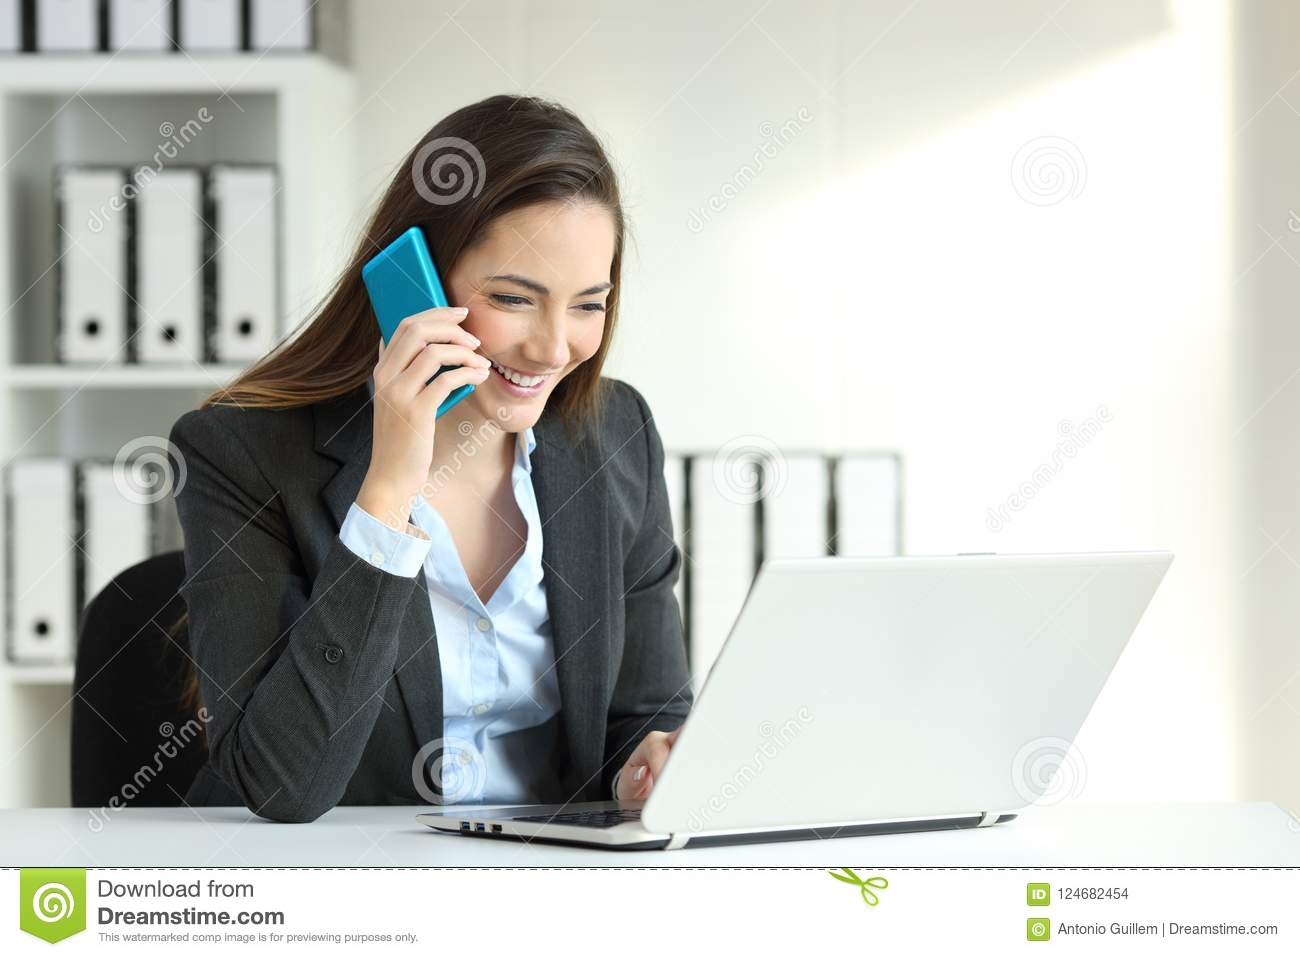phone: (364, 227, 476, 424)
talk: (362, 219, 611, 502)
